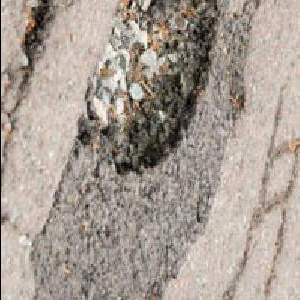pothole: (75, 0, 221, 178), (18, 0, 55, 66)
